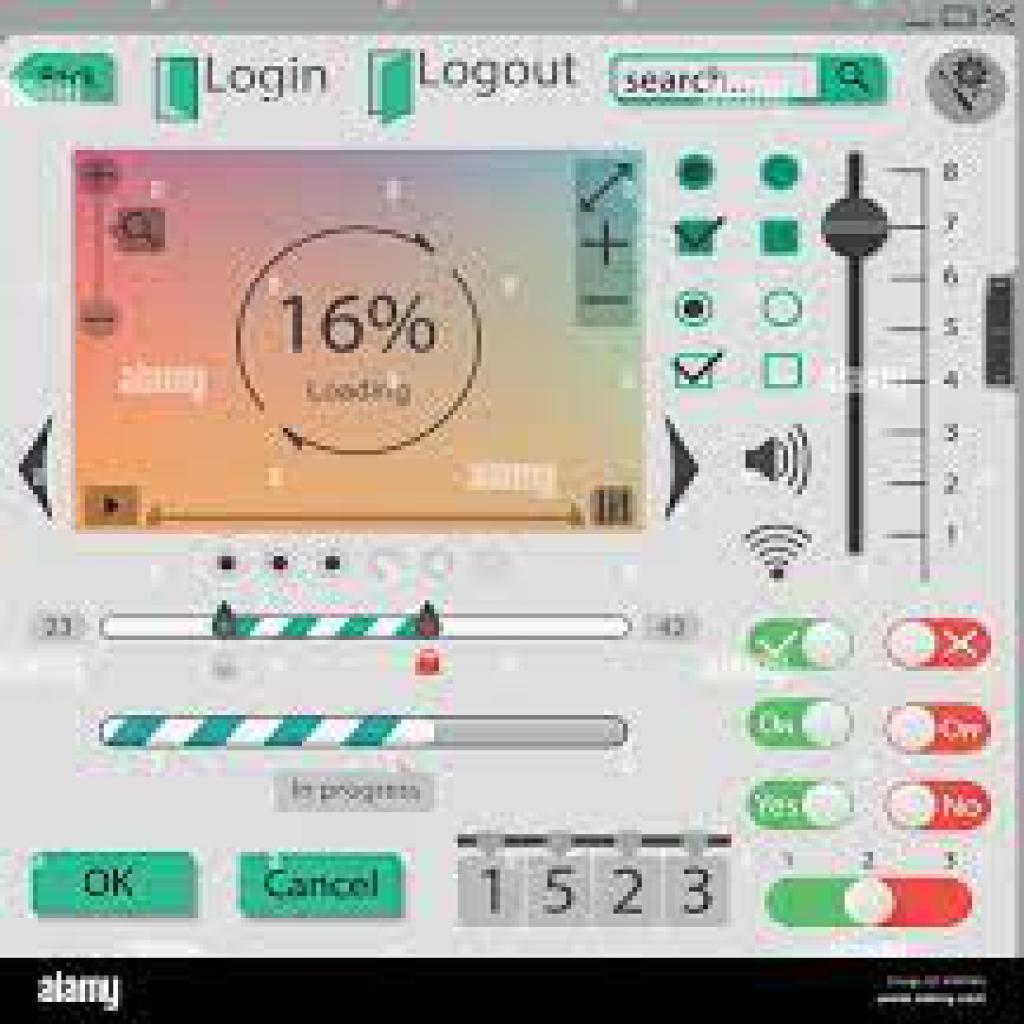button: (240, 854, 406, 923), (32, 854, 200, 918)
checkbox: (674, 348, 724, 392), (674, 218, 723, 260), (759, 218, 802, 259), (766, 355, 806, 392)
input: (610, 54, 889, 105)
radio: (759, 153, 804, 194), (763, 287, 805, 330), (676, 154, 721, 193), (676, 291, 713, 329)
slider: (102, 597, 643, 658), (97, 702, 639, 761)
switch: (745, 619, 857, 673), (883, 702, 991, 756), (747, 698, 855, 750), (885, 620, 991, 672), (883, 782, 995, 830), (748, 781, 855, 831)
